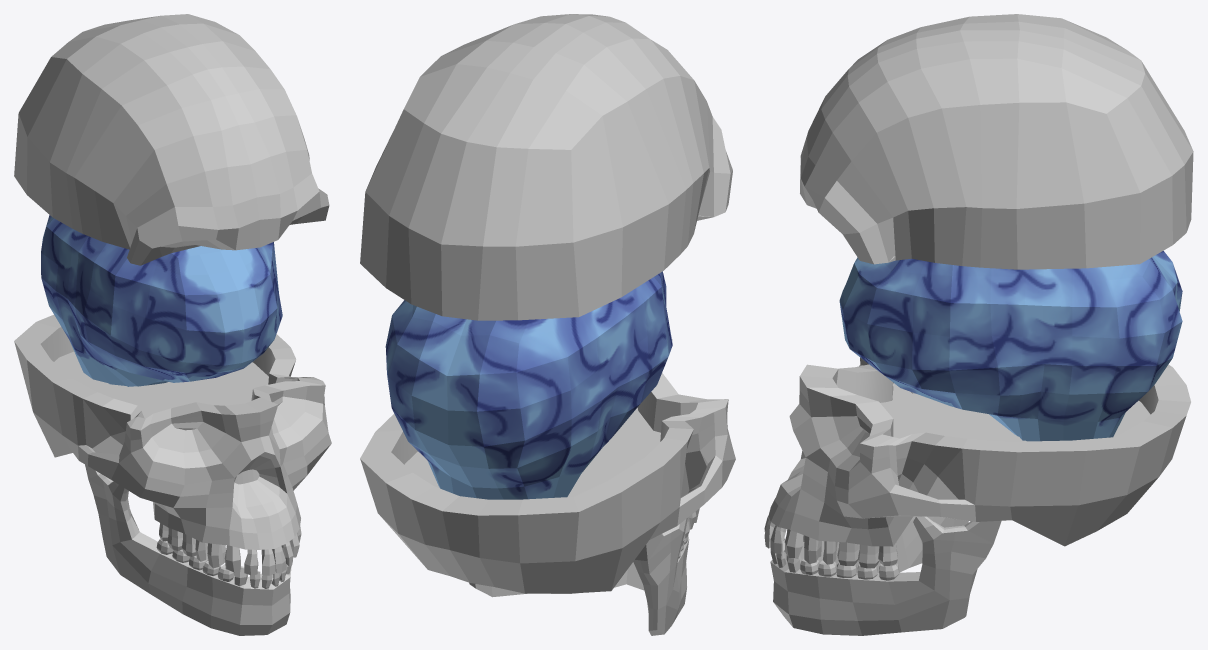
File: ChoppedSkull_v02.fbx
3 views of the same model, side by side, from view 1: azimuth 30°, elevation 25°; view 2: azimuth 150°, elevation 25°; view 3: azimuth 270°, elevation 25° (orthographic). The views are drawn at different scales.
Visible parts, largest first — view 1: Skull2, Skull1, Brain; view 2: Skull2, Skull1, Brain; view 3: Skull2, Skull1, Brain.
Part boxes in pixels (x1,y1,x2,y2): Skull2: (14,14,329,265); Skull1: (14,314,331,635); Brain: (41,215,282,386); Skull2: (360,14,732,320); Skull1: (360,339,735,635); Brain: (385,271,672,499); Skull2: (800,14,1193,269); Skull1: (764,357,1190,635); Brain: (839,251,1182,441).
Size of the model in its own units: 30.66 by 68.88 by 45.62.
